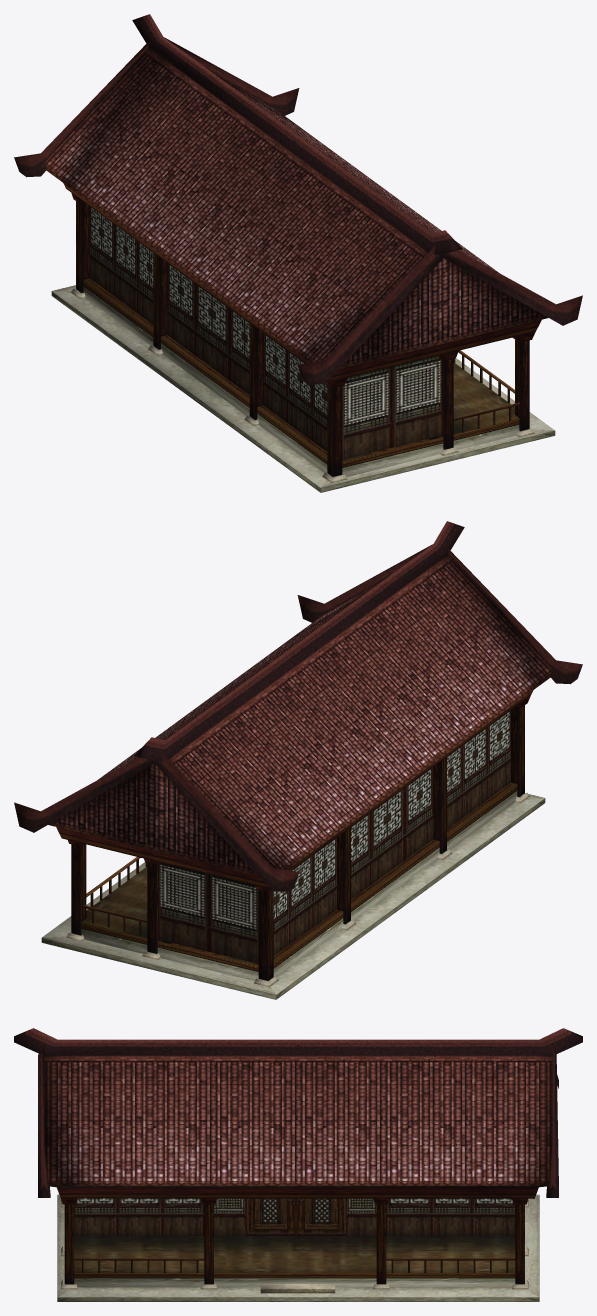
File: a1-033-guesthouse-02_lod_01.glb
The picture shows the model from 3 angles, top to bottom: view 1: azimuth 30°, elevation 25°; view 2: azimuth 150°, elevation 25°; view 3: azimuth 270°, elevation 25°; orthographic projection. The views are drawn at different scales.
Parts seen in each view (by area): view 1: a1-033-guesthouse-01, a1-033-guesthouse-02; view 2: a1-033-guesthouse-01, a1-033-guesthouse-02; view 3: a1-033-guesthouse-01, a1-033-guesthouse-02.
Part boxes in pixels (x1=…): a1-033-guesthouse-01: x1=14, y1=14, x2=582, y2=483; a1-033-guesthouse-02: x1=51, y1=201, x2=555, y2=492; a1-033-guesthouse-01: x1=14, y1=521, x2=582, y2=987; a1-033-guesthouse-02: x1=41, y1=705, x2=545, y2=999; a1-033-guesthouse-01: x1=14, y1=1028, x2=582, y2=1293; a1-033-guesthouse-02: x1=57, y1=1194, x2=539, y2=1301.
Size of the model in its own units: 14.1 by 11.57 by 27.14.
Materials: 2 (2 with a texture image).
